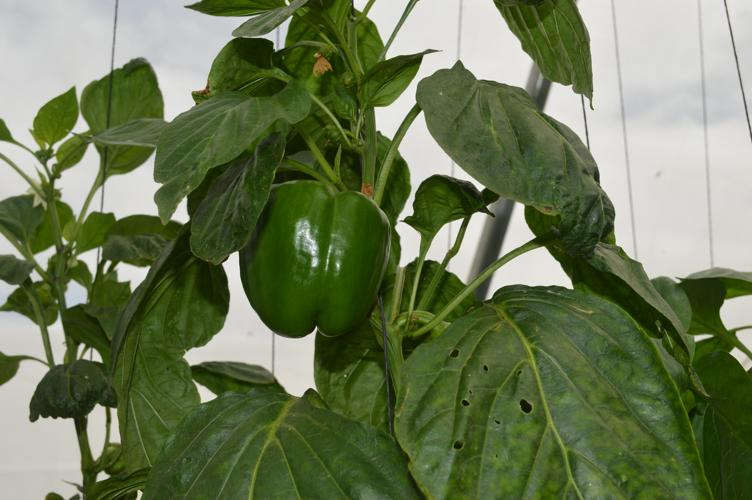BellPepper: (241, 180, 391, 335)
